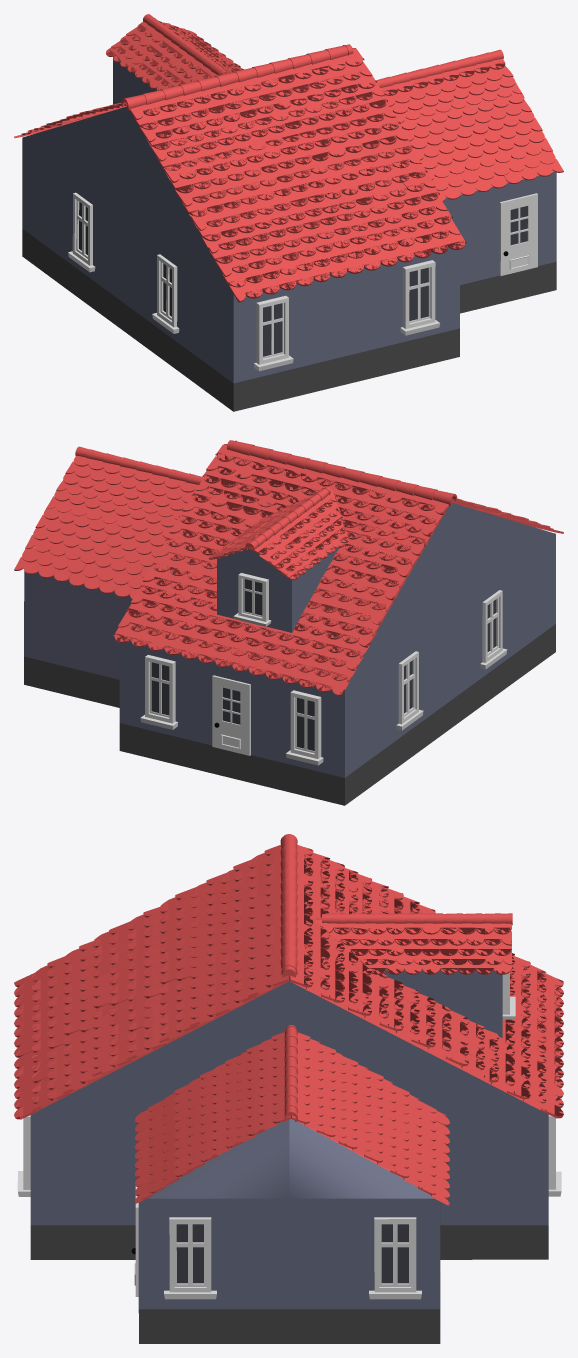
File: big_house.fbx
3 views of the same model, one above another, from view 1: azimuth 30°, elevation 25°; view 2: azimuth 150°, elevation 25°; view 3: azimuth 270°, elevation 25° (orthographic). The views are drawn at different scales.
Parts seen in each view (by area): view 1: Cube; view 2: Cube; view 3: Cube.
Part boxes in pixels (<box>): Cube: <box>14,14,563,411</box>; Cube: <box>14,440,563,805</box>; Cube: <box>14,834,563,1343</box>.
Size of the model in its own units: 1316 by 784 by 1351.
